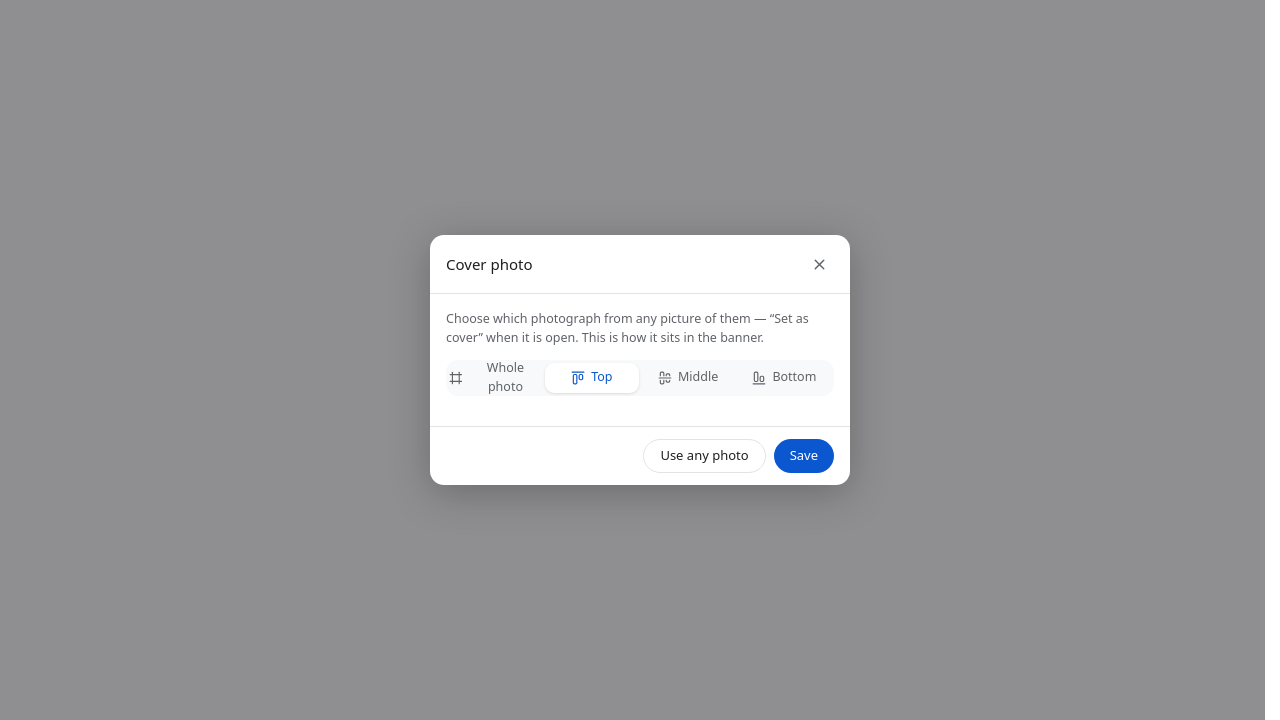
it: CoverPicker › saving state UI › shows "Saving…" and disables Save while the request is in flight
This screenshot has width=1280, height=720.
What coordinates should you click on to do the following:
click the button "Save"
I would click on:
 (804, 456)
Its box is x1=774 y1=439 x2=834 y2=473.
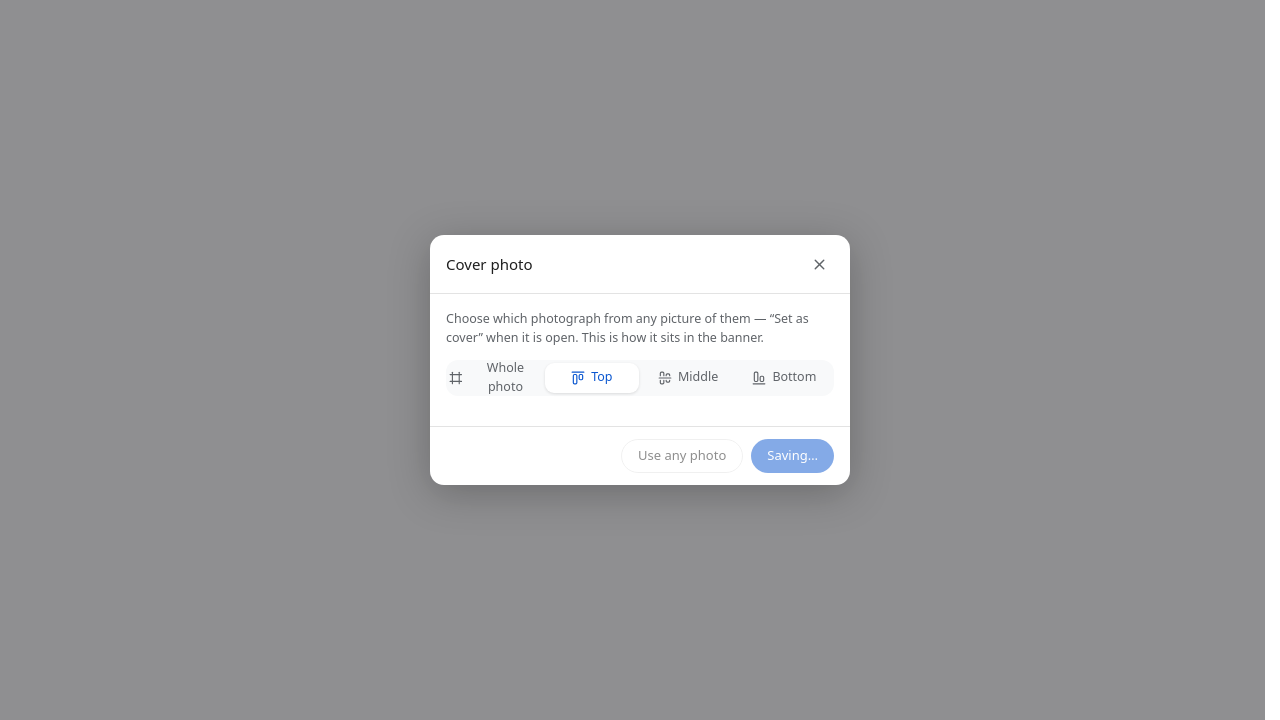
Check: the button "Saving…" is disabled, box x1=751 y1=439 x2=834 y2=473
